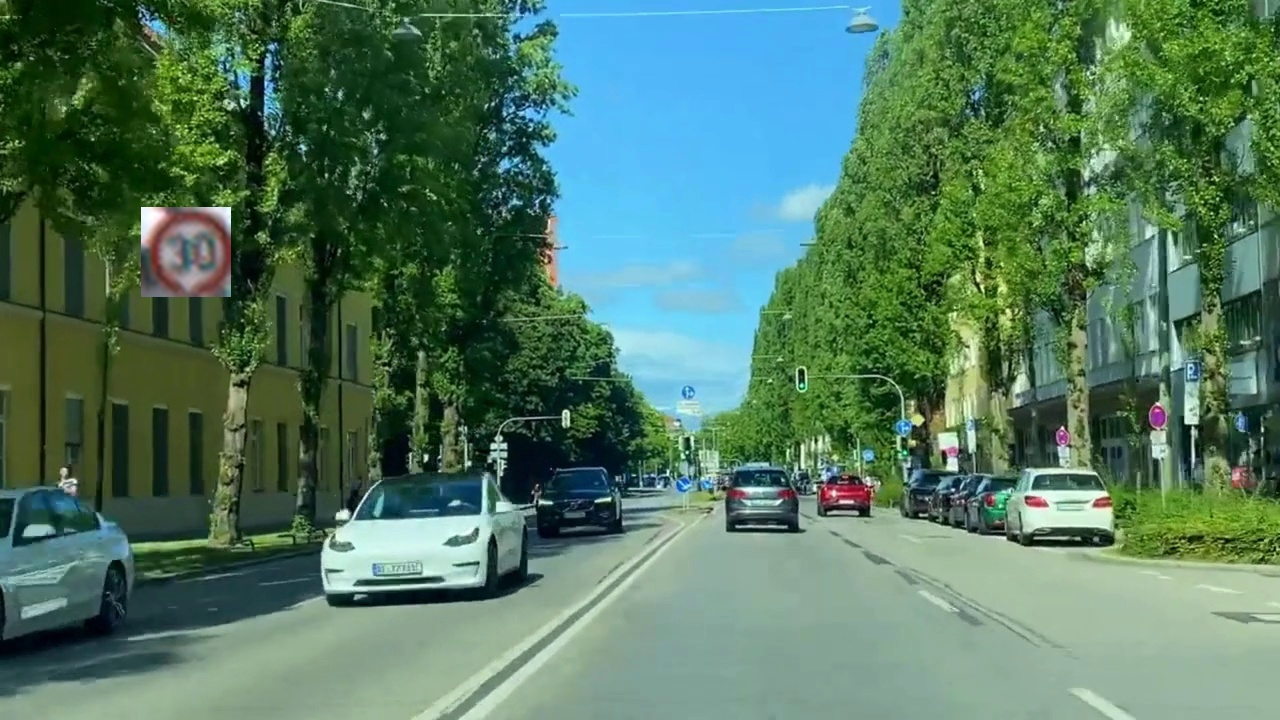Speed 30: (141, 207, 231, 297)
